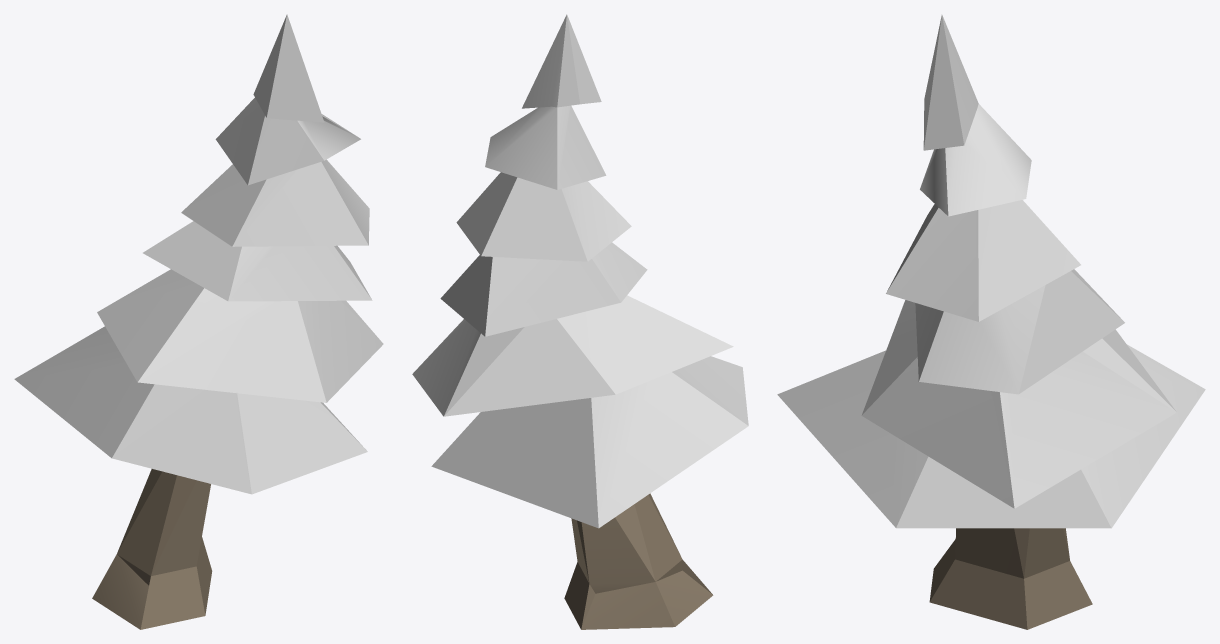
File: Tree_Pine_Snow_Tall_03.fbx
The picture shows the model from 3 angles, left to right: view 1: azimuth 30°, elevation 25°; view 2: azimuth 150°, elevation 25°; view 3: azimuth 270°, elevation 25°; orthographic projection. The views are drawn at different scales.
Visible parts, largest first — view 1: Tree_Pine_Snow_Tall_03; view 2: Tree_Pine_Snow_Tall_03; view 3: Tree_Pine_Snow_Tall_03.
Part boxes in pixels (left/top/right/bottom): Tree_Pine_Snow_Tall_03: left=14, top=14, right=383, bottom=629; Tree_Pine_Snow_Tall_03: left=412, top=14, right=748, bottom=629; Tree_Pine_Snow_Tall_03: left=777, top=15, right=1205, bottom=629.
Size of the model in its own units: 66.67 by 117 by 71.81.
